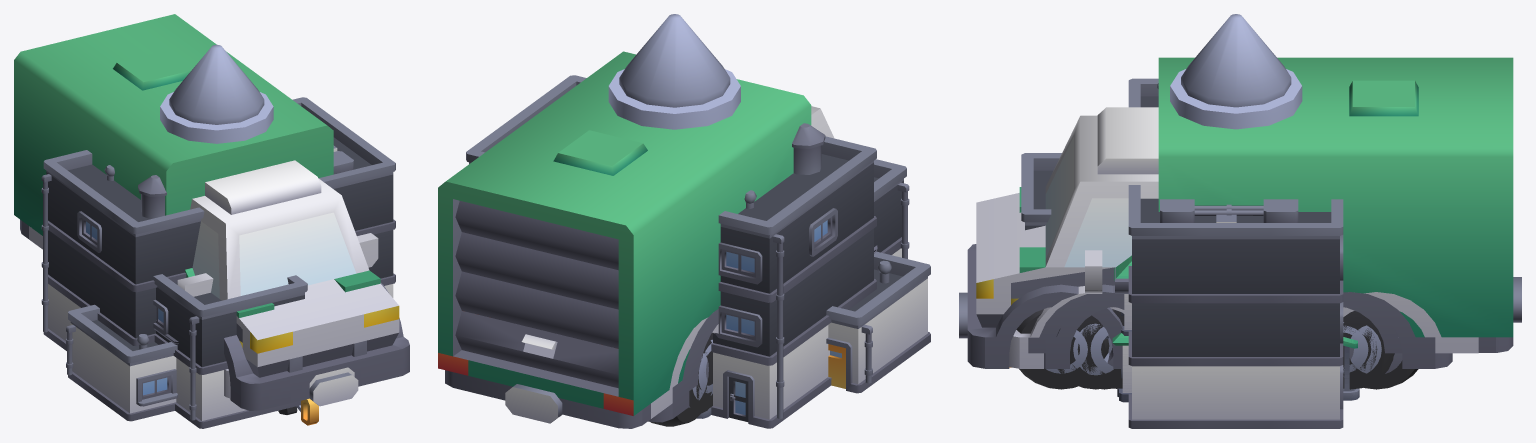
Rendered from shooter-kit.glb.
3 renders of one model, left to right at view 1: azimuth 30°, elevation 25°; view 2: azimuth 150°, elevation 25°; view 3: azimuth 270°, elevation 25°, orthographic. The views are drawn at different scales.
Visible parts, largest first — view 1: car-delivery:body, ind-building-a:building-a, ind-building-o:building-o, ind-building-h:building-h, ind-water-tower:water-tower, ind-chimney-large:chimney-large, body (×2), car-police:grill, blaster-e; view 2: car-delivery:body, ind-building-a:building-a, car-delivery:door, ind-building-h:building-h, ind-water-tower:water-tower, ind-chimney-large:chimney-large, ind-building-o:building-o, body (×2), car-sedan:body, car-police:wheel-back-right; view 3: car-delivery:body, ind-building-a:building-a, body (×2), ind-water-tower:water-tower, car-sedan:body, ind-chimney-large:chimney-large, ind-building-o:building-o, car-police:wheel-back-left, car-delivery:wheel-front-left, house-building-type-f:building-type-f, car-sedan:wheel-front-left, car-sedan:wheel-back-left (+3 smaller).
Part boxes in pixels (x1,y1,x2,y2): car-delivery:body: (14, 14, 409, 410); ind-building-a:building-a: (41, 97, 395, 350); ind-building-o:building-o: (153, 274, 307, 428); ind-building-h:building-h: (66, 304, 178, 421); ind-water-tower:water-tower: (169, 44, 264, 124); ind-chimney-large:chimney-large: (160, 92, 273, 143); body (×2): (29, 226, 380, 398); car-police:grill: (287, 340, 366, 387); blaster-e: (278, 398, 318, 425); car-delivery:body: (438, 51, 834, 428); ind-building-a:building-a: (466, 75, 876, 428); car-delivery:door: (455, 201, 618, 388); ind-building-h:building-h: (826, 245, 930, 393); ind-water-tower:water-tower: (619, 14, 730, 107); ind-chimney-large:chimney-large: (608, 69, 740, 129); ind-building-o:building-o: (874, 159, 909, 258); body (×2): (559, 317, 718, 418); car-sedan:body: (648, 309, 718, 422); car-police:wheel-back-right: (650, 339, 712, 426); car-delivery:body: (959, 57, 1521, 368); ind-building-a:building-a: (1128, 78, 1343, 428); body (×2): (1009, 187, 1478, 368); ind-water-tower:water-tower: (1181, 14, 1291, 107); car-sedan:body: (1044, 285, 1452, 368); ind-chimney-large:chimney-large: (1170, 69, 1302, 129); ind-building-o:building-o: (1021, 153, 1061, 230); car-police:wheel-back-left: (1343, 313, 1418, 389); car-delivery:wheel-front-left: (1016, 309, 1109, 389); house-building-type-f:building-type-f: (1114, 255, 1357, 402); car-sedan:wheel-front-left: (1077, 309, 1124, 388); car-sedan:wheel-back-left: (1343, 311, 1394, 389).
Size of the model in its own units: 2.28 by 2.44 by 3.25.
16 materials, 6 textured.
